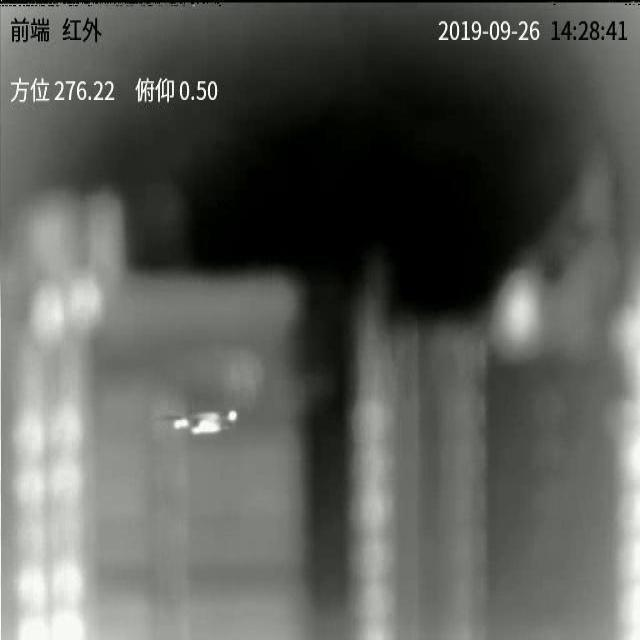drone: (163, 409, 239, 436)
